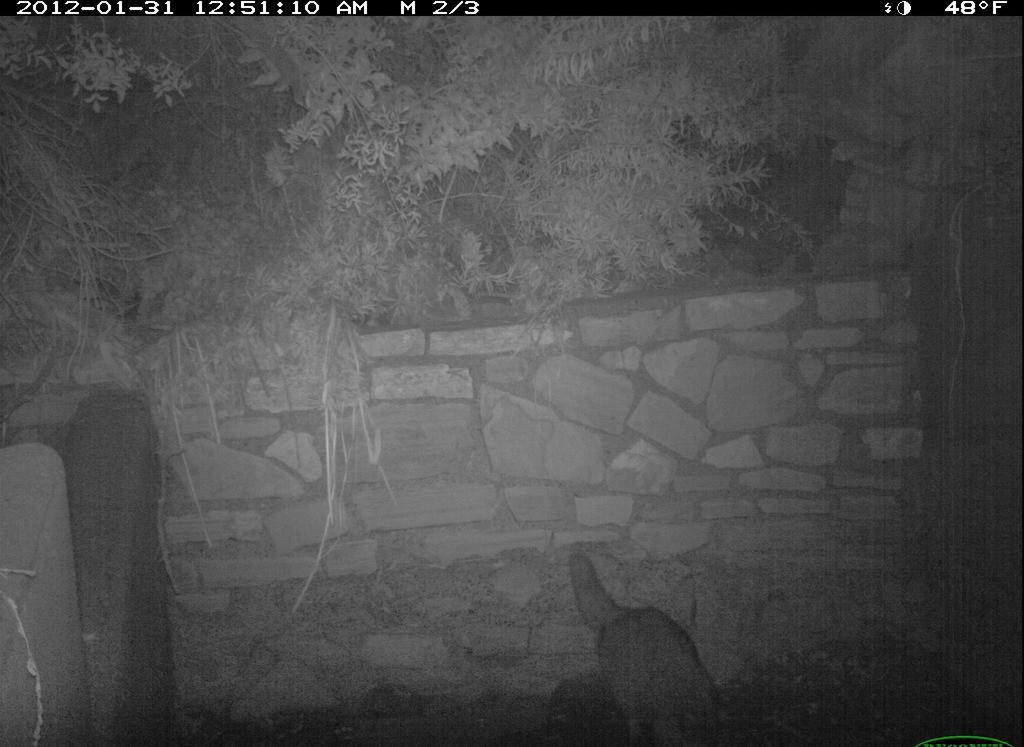raccoon: (556, 541, 760, 740)
